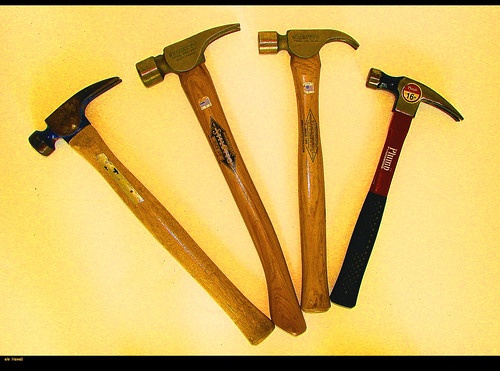hammer: (29, 77, 274, 344), (137, 21, 307, 337), (326, 65, 464, 312), (258, 24, 353, 315)
